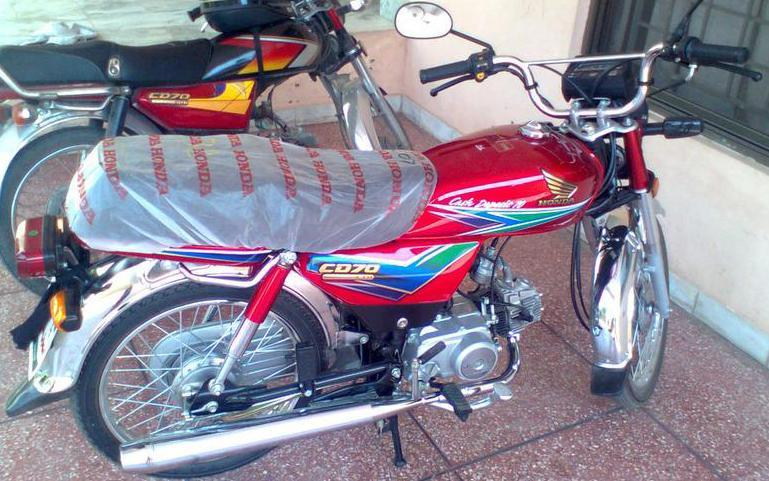bike: (64, 3, 763, 481), (1, 1, 425, 302)
